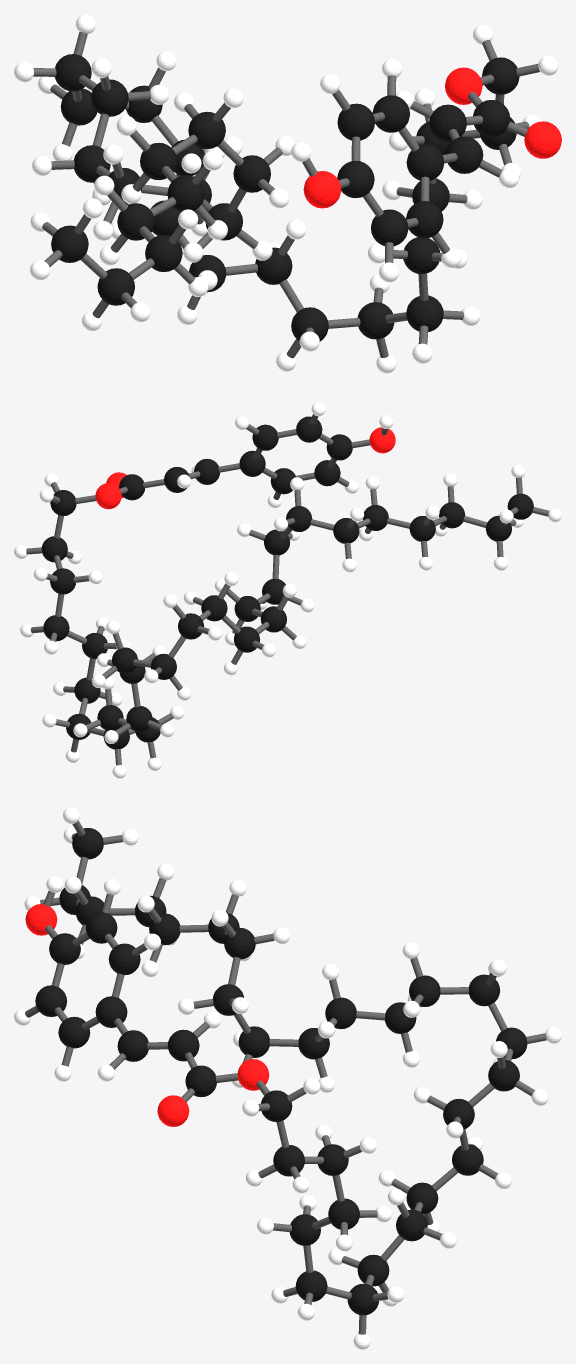
File: molecule.glb
3 views of the same model, one above another, from view 1: azimuth 30°, elevation 25°; view 2: azimuth 150°, elevation 25°; view 3: azimuth 270°, elevation 25° (orthographic). The views are drawn at different scales.
Parts seen in each view (by area): view 1: geometry_30, geometry_37, geometry_35, geometry_38, geometry_33, geometry_28, geometry_29, geometry_21, geometry_34, geometry_0, geometry_2, geometry_22 (+25 smaller); view 2: geometry_28, geometry_34, geometry_36, geometry_15, geometry_17, geometry_38, geometry_33, geometry_35, geometry_37, geometry_2, geometry_19, geometry_32 (+21 smaller); view 3: geometry_30, geometry_32, geometry_29, geometry_34, geometry_36, geometry_39, geometry_31, geometry_33, geometry_35, geometry_28, geometry_38, geometry_8 (+22 smaller).
Boxes of the visible parts, x1=… form: geometry_30: x1=524, y1=121, x2=561, y2=158; geometry_37: x1=303, y1=171, x2=341, y2=208; geometry_35: x1=337, y1=103, x2=374, y2=140; geometry_38: x1=371, y1=209, x2=408, y2=246; geometry_33: x1=406, y1=144, x2=444, y2=180; geometry_28: x1=445, y1=67, x2=482, y2=104; geometry_29: x1=473, y1=100, x2=510, y2=137; geometry_21: x1=357, y1=302, x2=394, y2=339; geometry_34: x1=372, y1=95, x2=409, y2=132; geometry_0: x1=51, y1=225, x2=88, y2=262; geometry_2: x1=145, y1=234, x2=182, y2=271; geometry_22: x1=406, y1=295, x2=443, y2=331; geometry_28: x1=95, y1=483, x2=121, y2=509; geometry_34: x1=252, y1=424, x2=278, y2=450; geometry_36: x1=326, y1=434, x2=352, y2=460; geometry_15: x1=112, y1=647, x2=137, y2=673; geometry_17: x1=126, y1=706, x2=152, y2=731; geometry_38: x1=314, y1=460, x2=340, y2=486; geometry_33: x1=239, y1=450, x2=265, y2=476; geometry_35: x1=296, y1=416, x2=322, y2=442; geometry_37: x1=369, y1=427, x2=395, y2=453; geometry_2: x1=439, y1=502, x2=465, y2=528; geometry_19: x1=97, y1=705, x2=123, y2=730; geometry_32: x1=194, y1=459, x2=219, y2=484; geometry_30: x1=157, y1=1095, x2=189, y2=1126; geometry_32: x1=117, y1=1030, x2=148, y2=1061; geometry_29: x1=185, y1=1065, x2=216, y2=1097; geometry_34: x1=108, y1=943, x2=140, y2=975; geometry_36: x1=49, y1=933, x2=80, y2=964; geometry_39: x1=58, y1=1016, x2=90, y2=1048; geometry_31: x1=167, y1=1029, x2=199, y2=1061; geometry_33: x1=95, y1=996, x2=127, y2=1027; geometry_35: x1=85, y1=912, x2=117, y2=943; geometry_28: x1=237, y1=1059, x2=269, y2=1090; geometry_38: x1=35, y1=985, x2=67, y2=1016; geometry_8: x1=238, y1=1026, x2=269, y2=1057.
Size of the model in its own units: 0.257 by 0.1734 by 0.2234.
